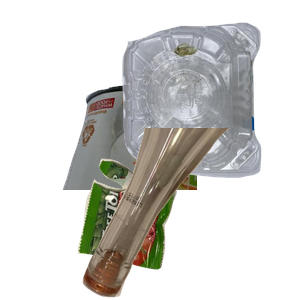glass: (80, 128, 300, 300)
metal: (60, 82, 300, 262)
plastic: (119, 20, 300, 190)
trash: (75, 156, 244, 300)
